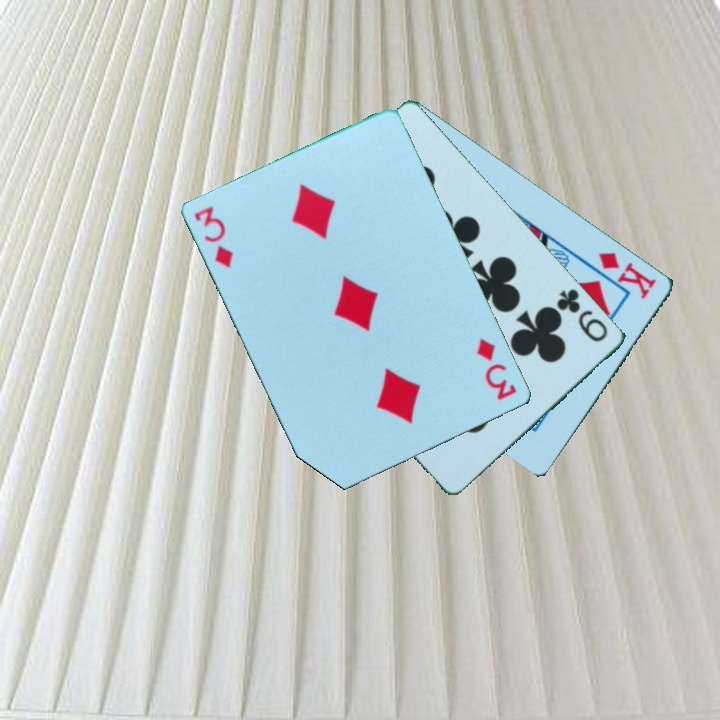3d: (473, 332, 520, 404), (191, 202, 237, 272)
9c: (553, 285, 612, 345)
Kd: (595, 248, 660, 302)
